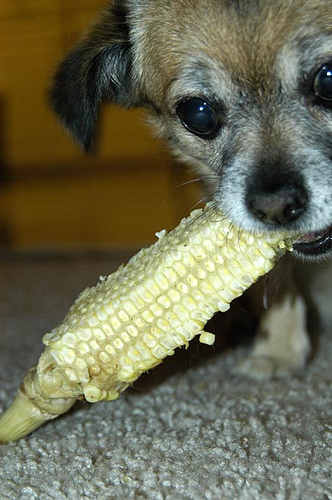corn: (0, 197, 275, 441)
